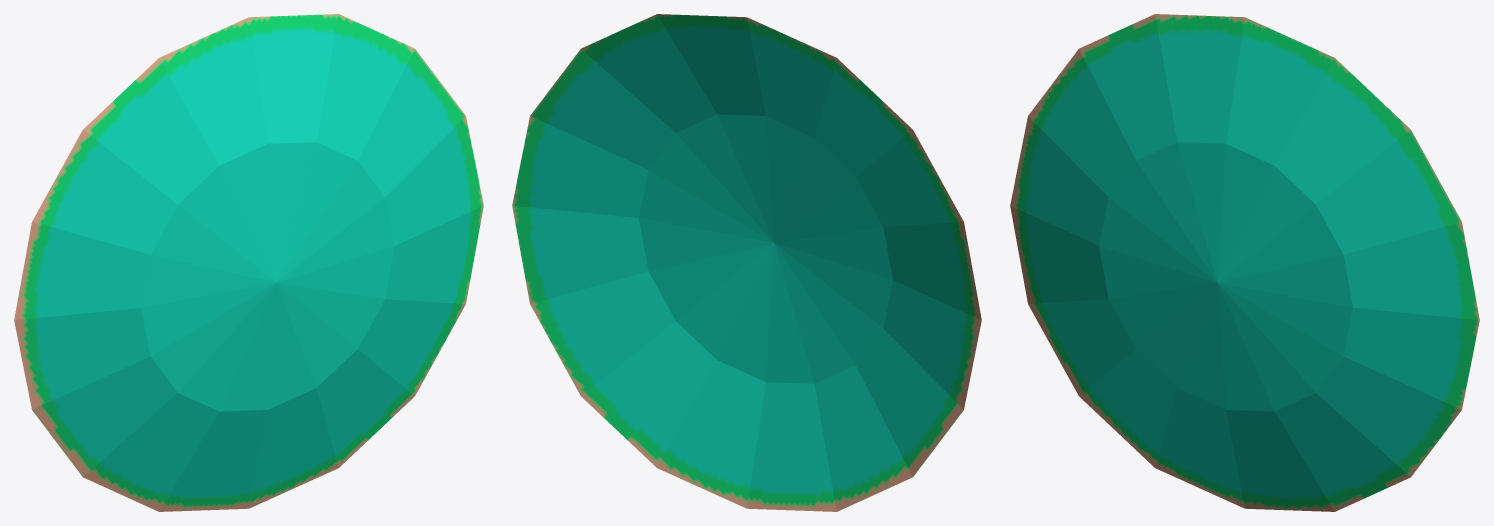
File: ShieldMesh.fbx
The picture shows the model from 3 angles, left to right: view 1: azimuth 30°, elevation 25°; view 2: azimuth 150°, elevation 25°; view 3: azimuth 330°, elevation 25°; orthographic projection.
Visible parts, largest first — view 1: Shield; view 2: Shield; view 3: Shield.
Boxes of the visible parts, x1,y1,x2,y2 form: Shield: [14, 14, 483, 511]; Shield: [512, 14, 981, 511]; Shield: [1010, 14, 1479, 511].
Size of the model in its own units: 9.37 by 9.37 by 0.9415.
